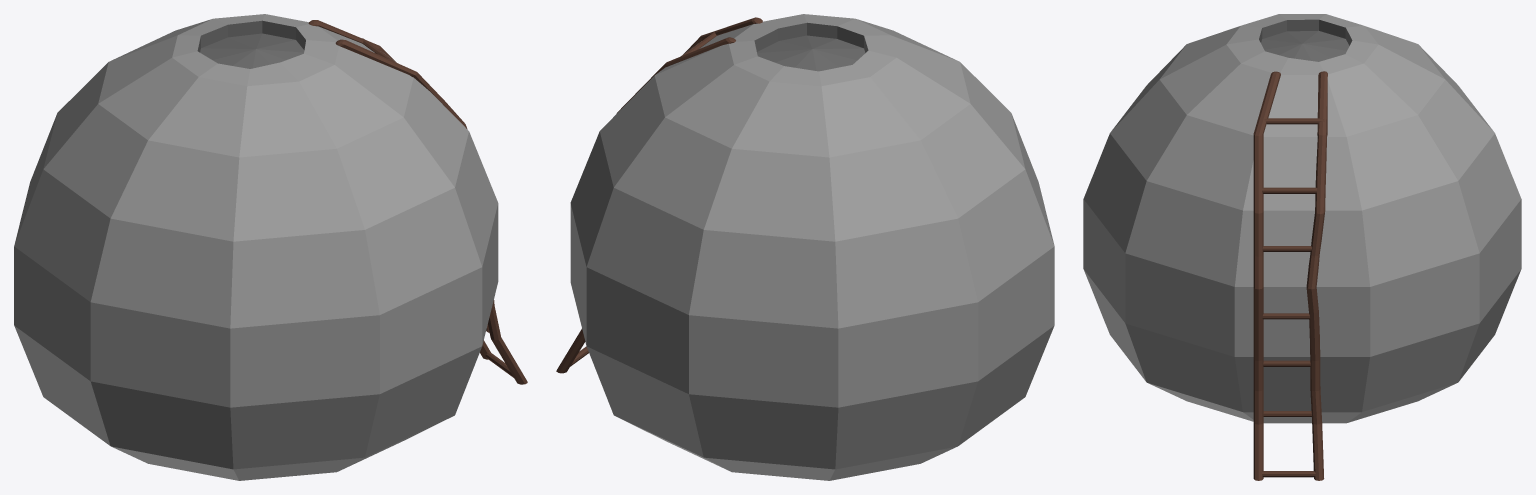
The model's file is HouseLV6.glb.
3 views of the same model, side by side, from view 1: azimuth 30°, elevation 25°; view 2: azimuth 150°, elevation 25°; view 3: azimuth 270°, elevation 25° (orthographic). The views are drawn at different scales.
Parts seen in each view (by area): view 1: Sphere, Cylinder.001; view 2: Sphere, Cylinder.001; view 3: Sphere, Cylinder.001.
Boxes of the visible parts, bbox=[...] form: Sphere: bbox=[14, 14, 498, 480]; Cylinder.001: bbox=[308, 20, 527, 384]; Sphere: bbox=[570, 14, 1054, 480]; Cylinder.001: bbox=[556, 17, 762, 373]; Sphere: bbox=[1083, 14, 1521, 423]; Cylinder.001: bbox=[1253, 71, 1327, 480].
Bounding box in the file's own units: 1.81 × 1.46 × 1.73.
